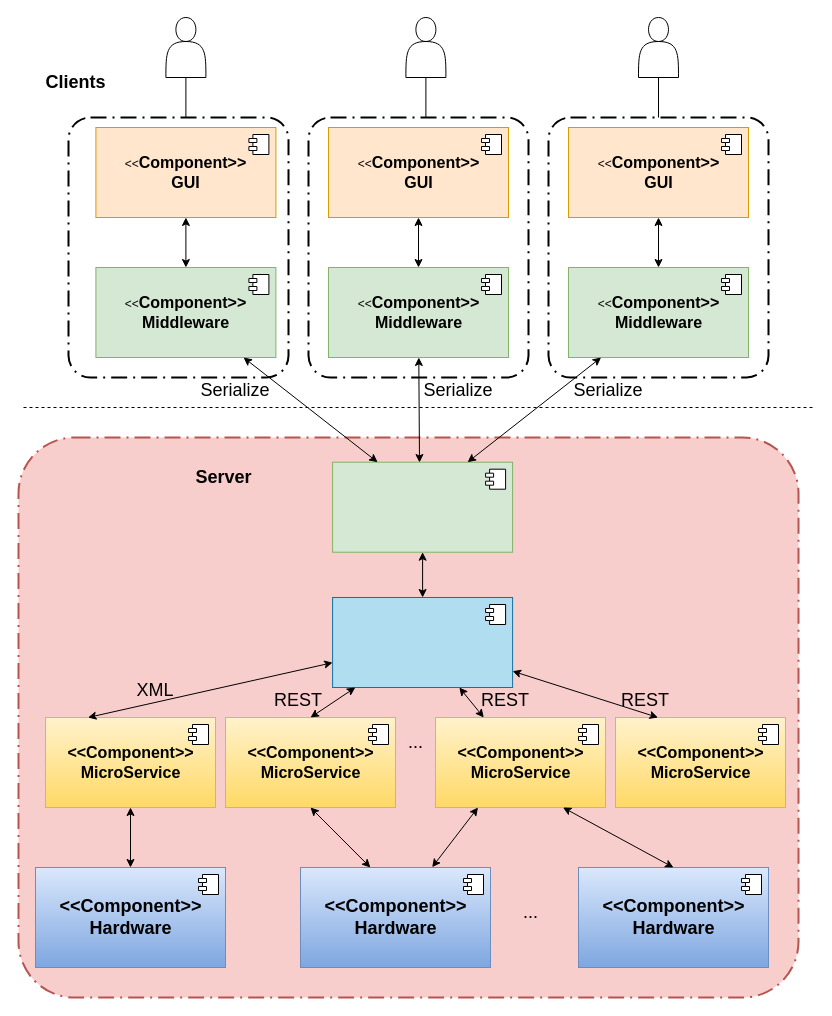
Some shapes in this 832 by 1016 pixel diagram are drawn without their labels. The centre of each missing label's shape, as x and y in pixels:
"<<Component>> Middleware" belongs at [422,506].
"<<Component>> Server" belongs at [422,642].
